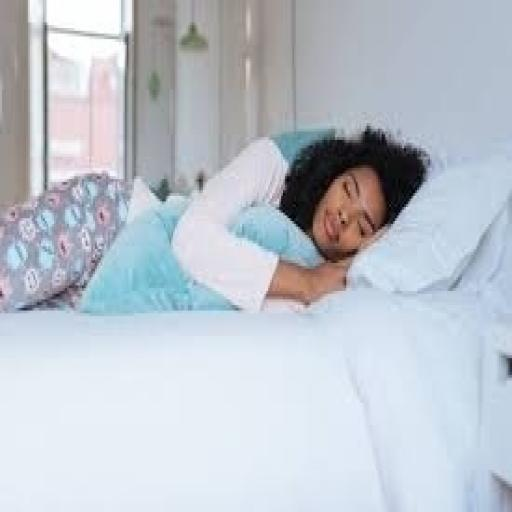sleeping: (0, 118, 432, 316)
